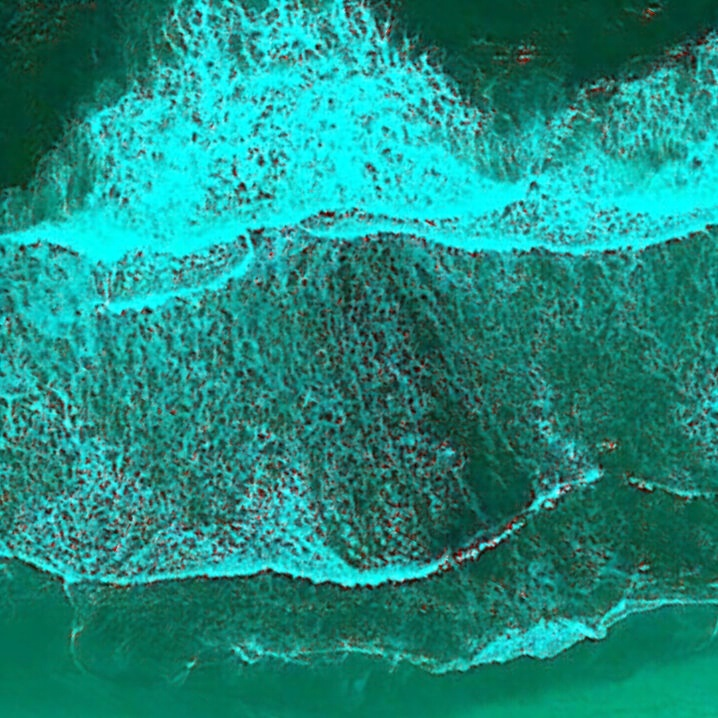rip_current: (301, 132, 554, 533)
